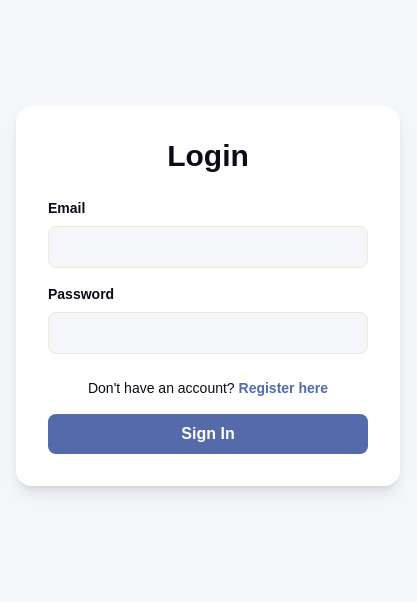
LoginPage › shows validation errors for invalid inputs
In the field: (208, 247) [48,226,368,268], type "invalidemail"
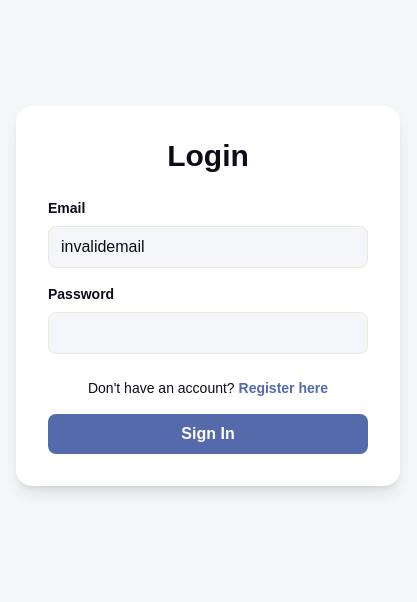
In the password field: (208, 333) [48,312,368,354], type "123"
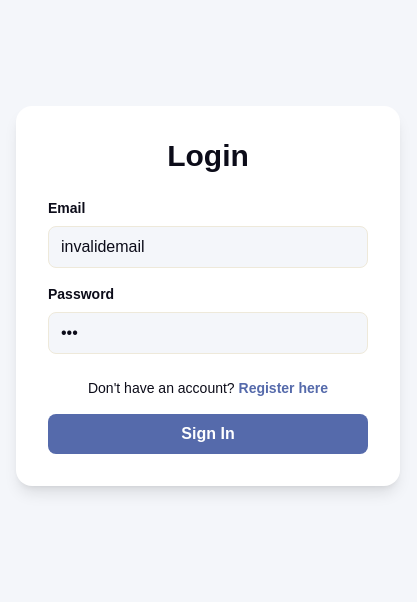
Click the button "Sign In": (208, 434) [48,414,368,454]
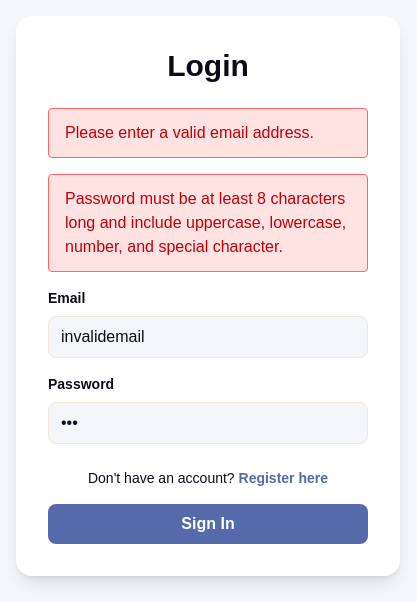
Expected: the text "Please enter a valid email address." is shown, [48,108,368,158]
Expected: the text "Password must be at least 8 characters long and include" is shown, [65,190,346,255]
